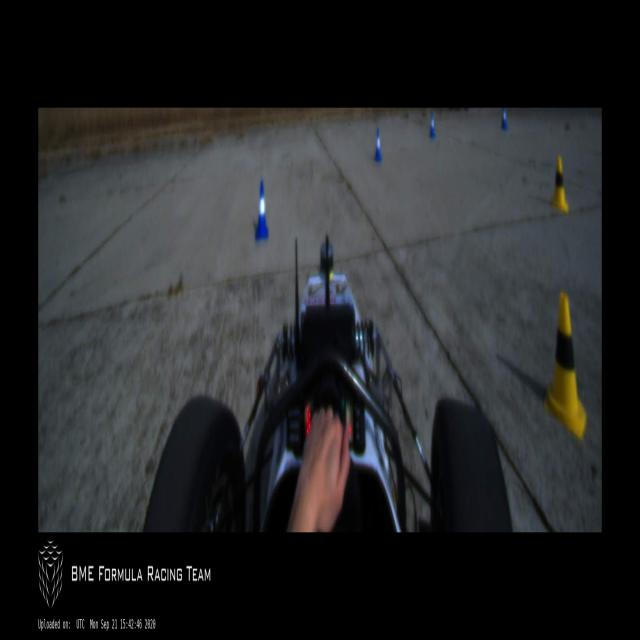blue_cone: (255, 181, 270, 242), (374, 128, 382, 163), (429, 111, 436, 138), (500, 108, 508, 130)
yellow_cone: (544, 291, 586, 439), (550, 156, 569, 216)
